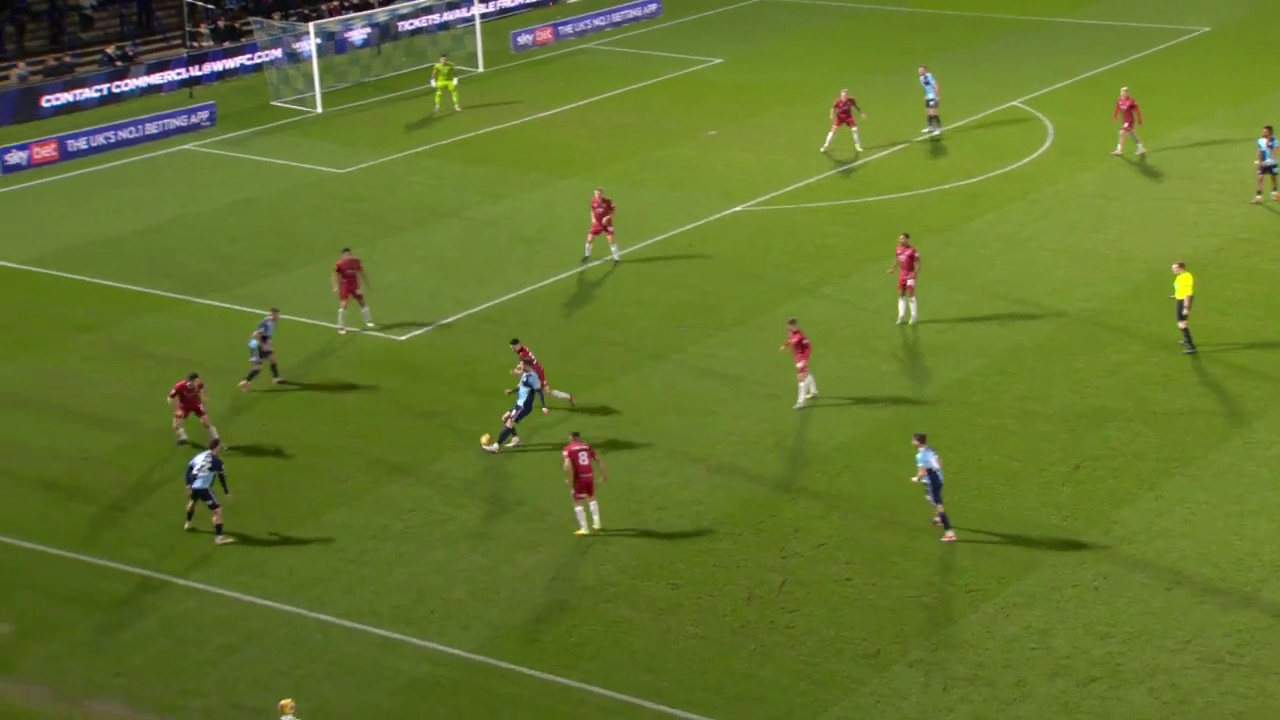ball: (448, 371, 474, 392)
